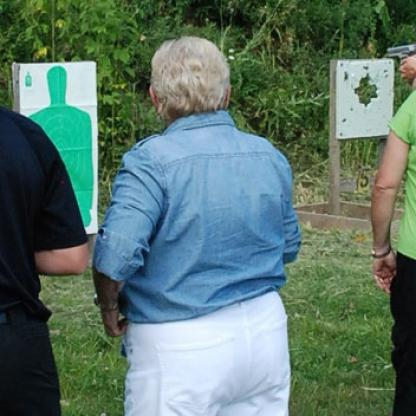gun: (382, 33, 415, 78)
